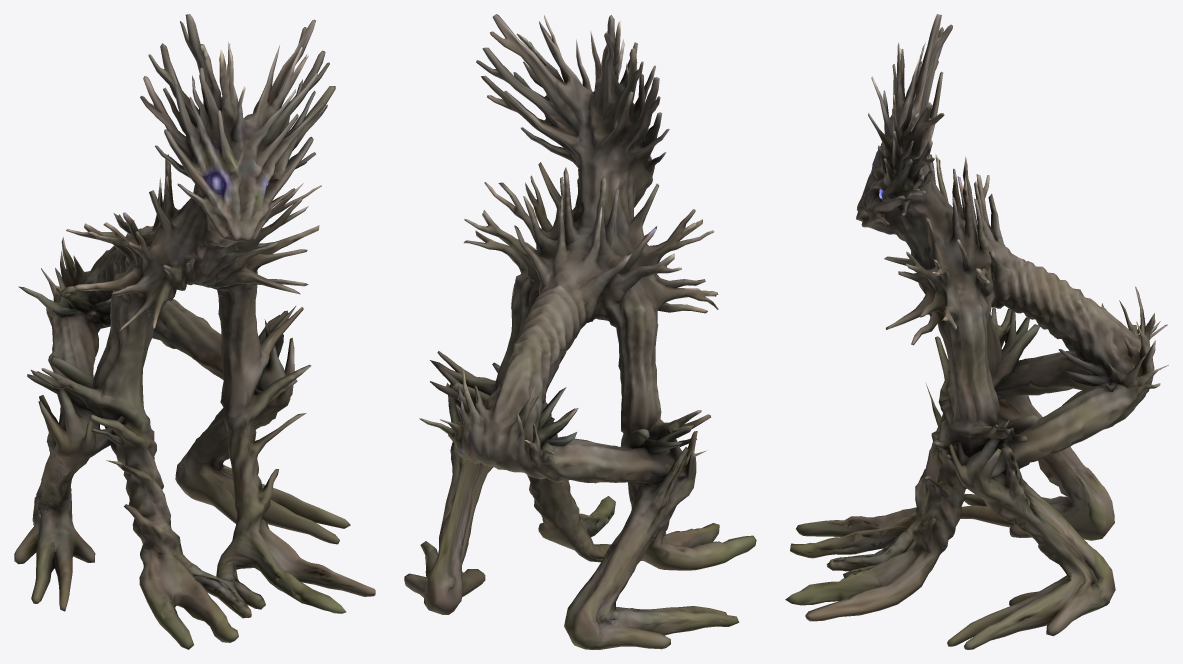
Rendered from MZ4250 - Twig Blight_2_2025.glb.
3 renders of one model, left to right at view 1: azimuth 30°, elevation 25°; view 2: azimuth 150°, elevation 25°; view 3: azimuth 270°, elevation 25°, orthographic. The views are drawn at different scales.
Visible parts, largest first — view 1: ORGANIC BASE SPHERE.001; view 2: ORGANIC BASE SPHERE.001; view 3: ORGANIC BASE SPHERE.001.
Part boxes in pixels (left/top/right/bottom): ORGANIC BASE SPHERE.001: left=14, top=14, right=375, bottom=649; ORGANIC BASE SPHERE.001: left=404, top=14, right=756, bottom=649; ORGANIC BASE SPHERE.001: left=785, top=14, right=1168, bottom=649.
Size of the model in its own units: 32.01 by 55.21 by 34.29.
Materials: 1 (1 with a texture image).
